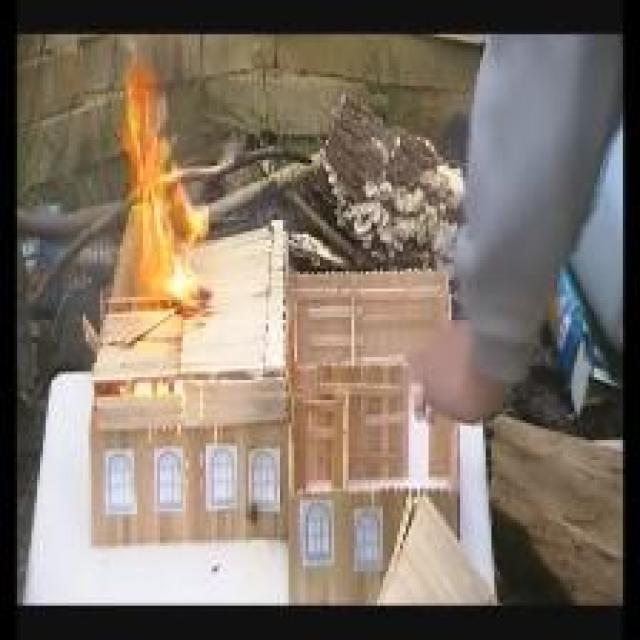Fire: (122, 61, 208, 308)
